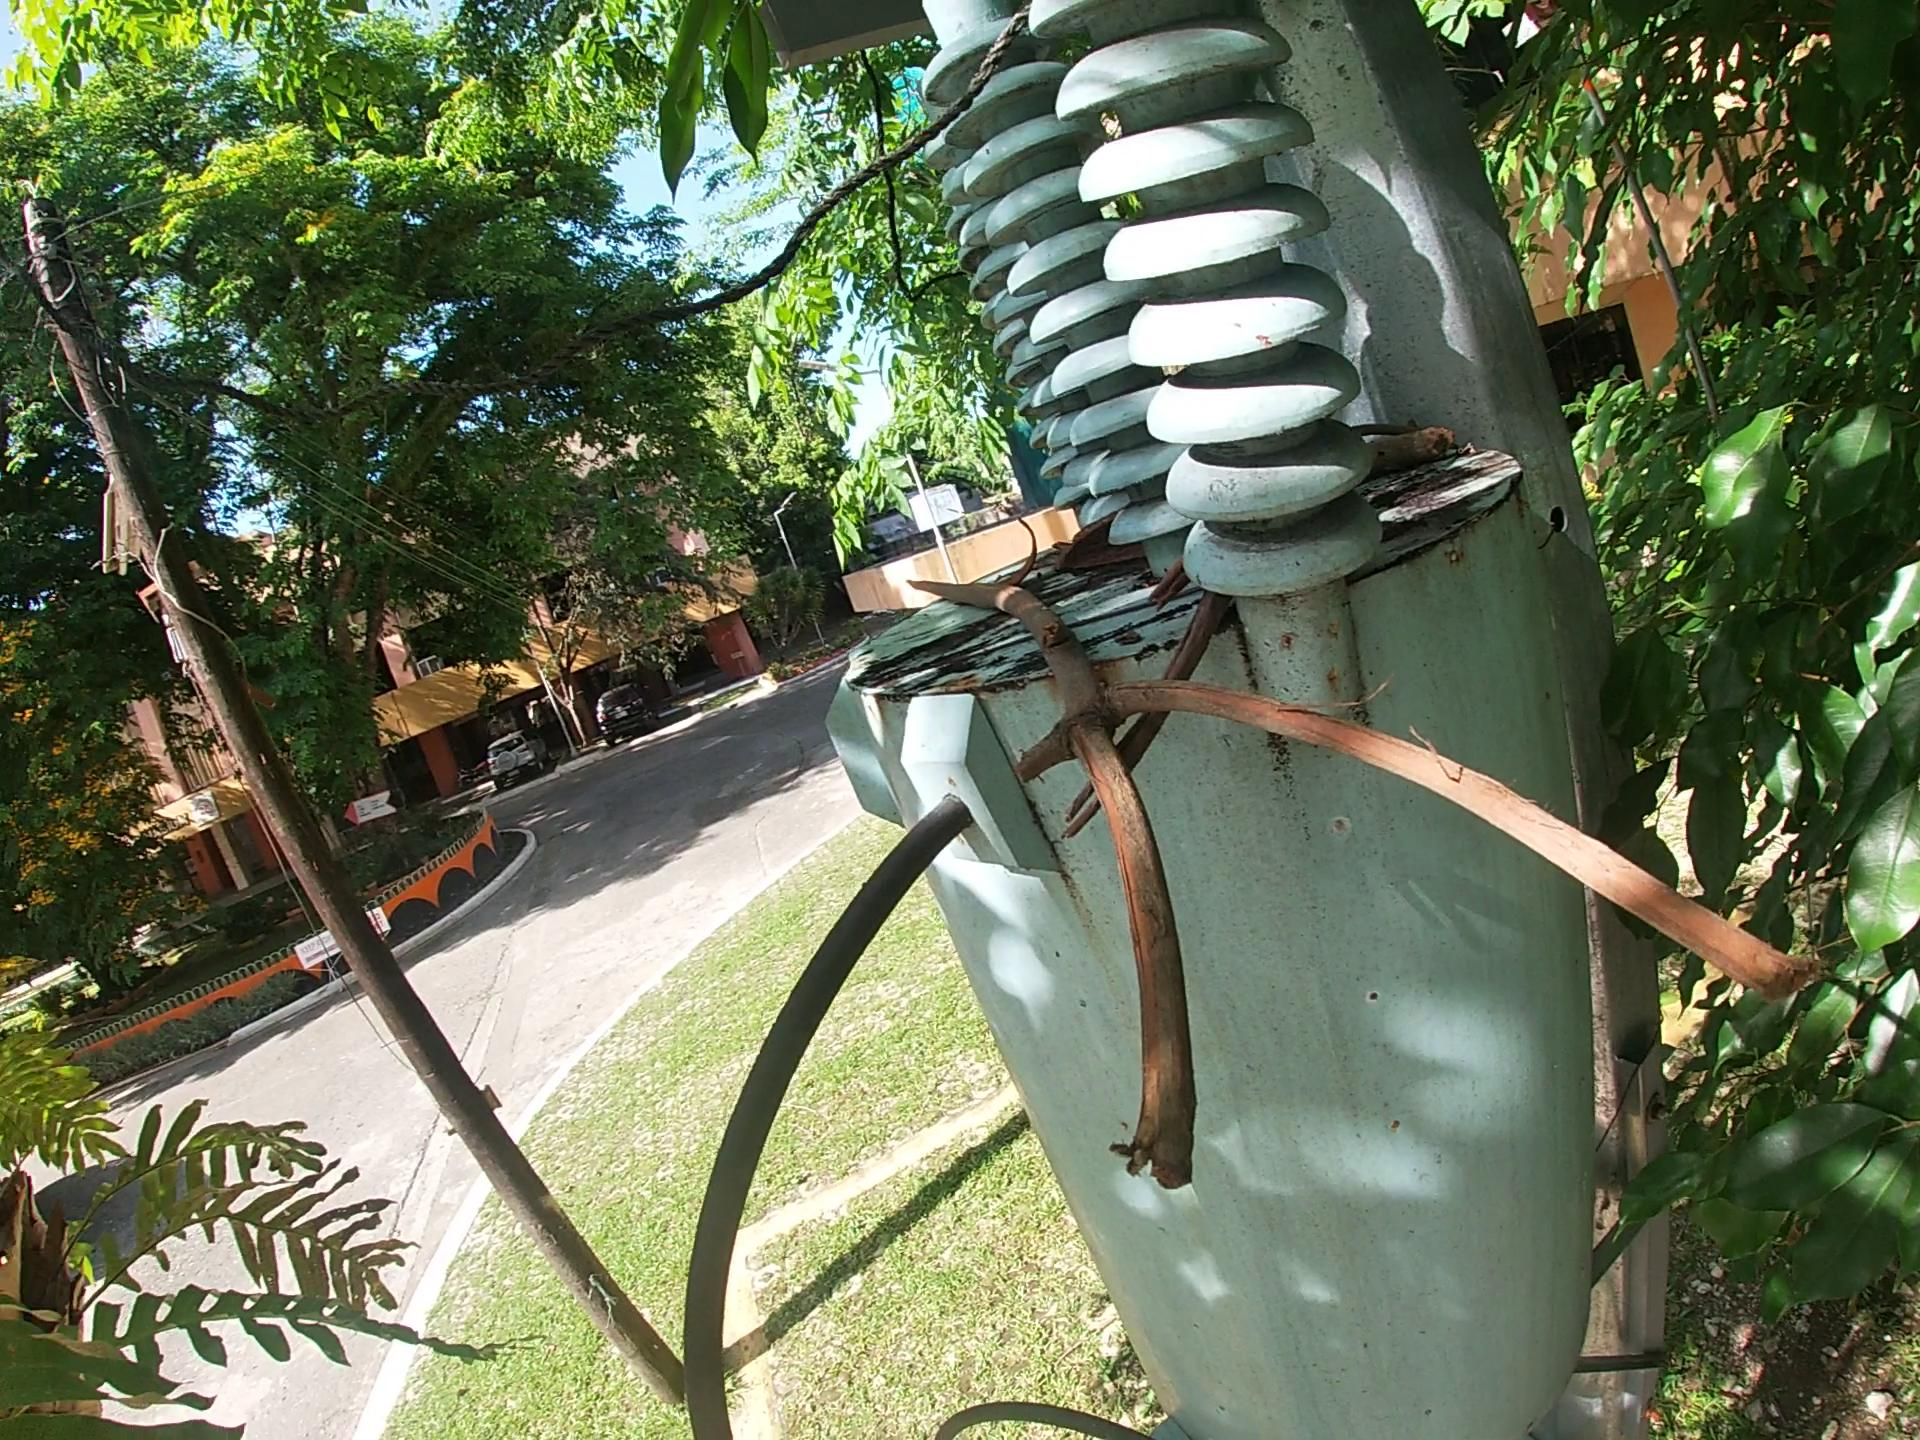mahogany fruit: (1048, 532, 1147, 594), (1002, 511, 1052, 584)
tree branch: (901, 567, 1850, 1293), (1061, 607, 1228, 838), (1356, 427, 1463, 492), (1135, 569, 1188, 616), (1352, 427, 1423, 436)
